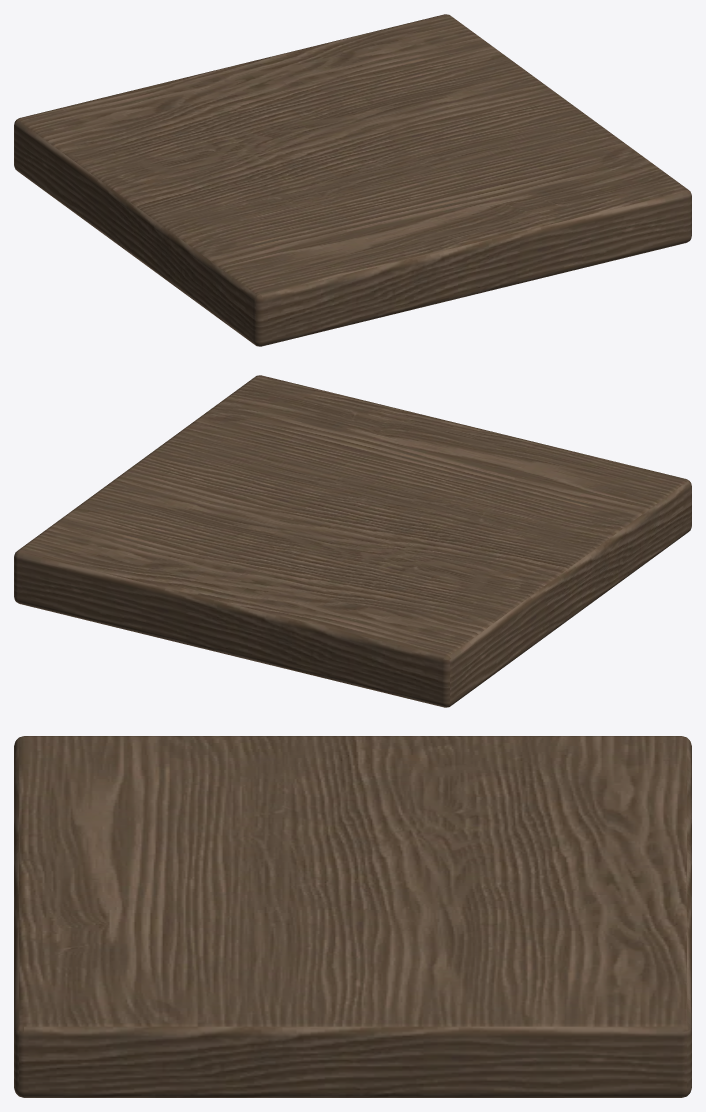
File: bench.glb
3 views of the same model, one above another, from view 1: azimuth 30°, elevation 25°; view 2: azimuth 150°, elevation 25°; view 3: azimuth 270°, elevation 25° (orthographic). The views are drawn at different scales.
Visible parts, largest first — view 1: desk; view 2: desk; view 3: desk.
Part boxes in pixels (left/top/right/bottom): desk: left=14, top=14, right=691, bottom=346; desk: left=14, top=375, right=691, bottom=707; desk: left=14, top=736, right=691, bottom=1097.
Size of the model in its own units: 155 by 18 by 150.
1 material, 1 textured.
